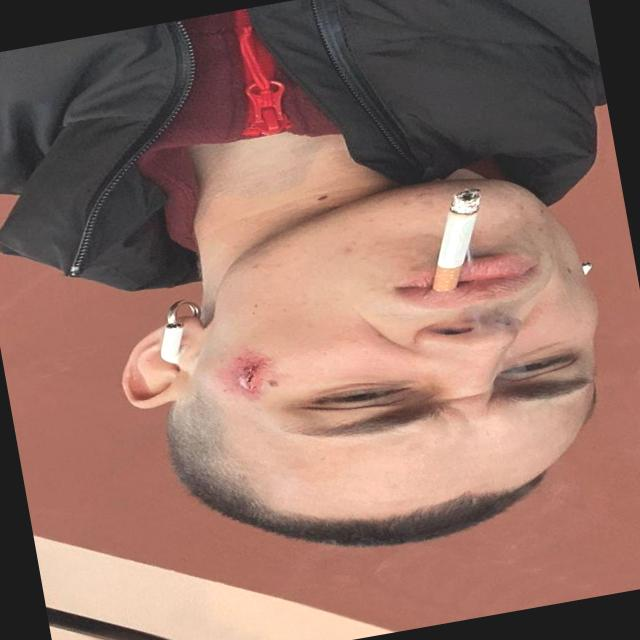smoke: (356, 154, 540, 322)
